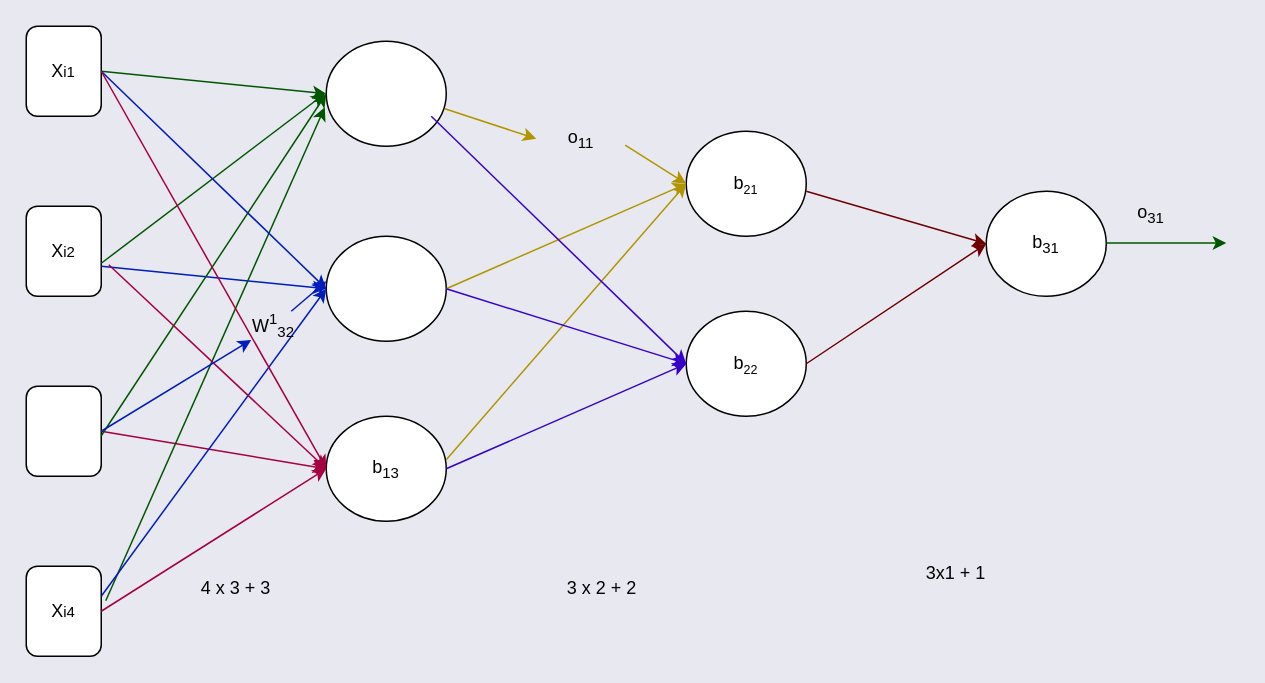
Some shapes in this 1265 by 683 pixel diagram are drawn without their labels. Here are the shapes that lost their labels. From the top down, the box of each, then its label:
(325, 40, 446, 146): b 11
(325, 235, 446, 341): b 12
(25, 385, 101, 476): X i3
